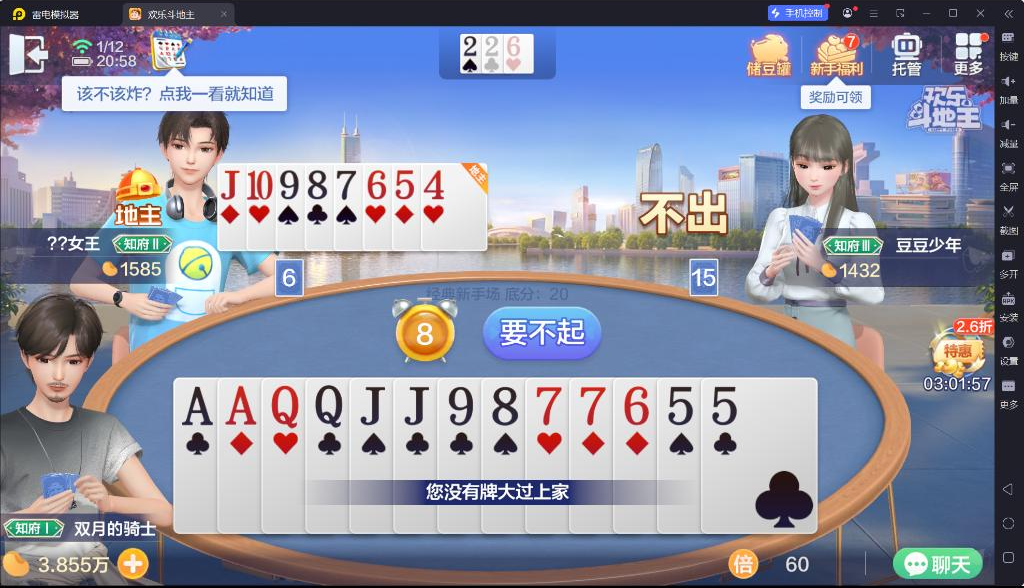A: (221, 381, 259, 429), (180, 382, 214, 429)
J: (355, 383, 387, 429), (400, 383, 432, 428), (219, 166, 240, 201)
Q: (268, 380, 301, 431), (312, 382, 346, 429)
eight: (488, 383, 521, 428), (306, 166, 328, 201)
five: (664, 384, 696, 428), (709, 384, 739, 428), (394, 166, 417, 202)
four: (423, 167, 448, 201)
nine: (443, 383, 477, 429), (278, 166, 300, 202)
seven: (575, 382, 609, 429), (532, 383, 564, 429), (335, 168, 358, 203)
six: (618, 383, 652, 427), (364, 168, 389, 200), (506, 35, 522, 57)
ten: (246, 166, 274, 202)
two: (462, 35, 479, 57), (485, 36, 500, 58)
